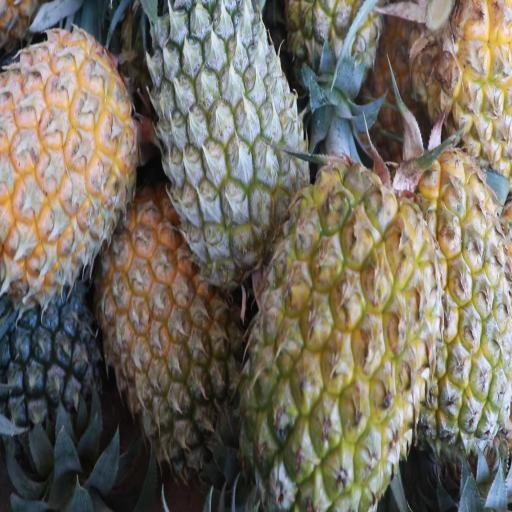------------------------------: (106, 204, 238, 475)
Pineapple - v8 v1: (243, 161, 441, 512), (0, 28, 138, 288), (395, 149, 512, 455)
